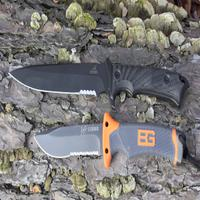knife: (8, 49, 188, 111), (26, 112, 192, 170)
